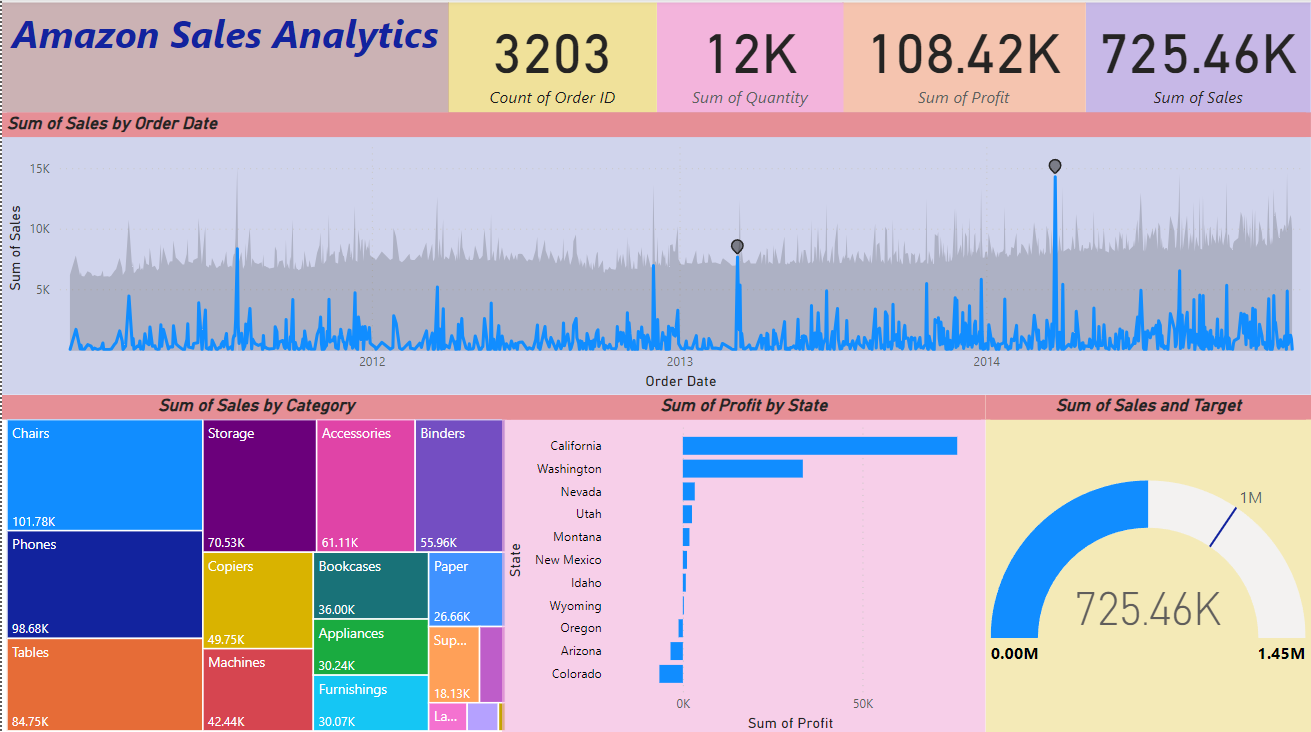

What the dashboard file says about the page in this screenshot:
{"tool":"powerbi","page":{"name":"Page 1","canvas":[1280,720],"ordinal":0},"visuals":[{"type":"card","fields":{"Values":["Sum(Walmart.Sales)"]},"box":[1060,2,220,108],"z":0},{"type":"card","fields":{"Values":["Sum(Walmart.Profit)"]},"box":[822,2,238,108],"z":1},{"type":"card","fields":{"Values":["Sum(Walmart.Quantity)"]},"box":[640,2,182,108],"z":2},{"type":"card","fields":{"Values":["CountNonNull(Walmart.Order ID)"]},"box":[436,2,204,108],"z":3},{"type":"lineChart","fields":{"Category":["Walmart.Order Date"],"Y":["Sum(Walmart.Sales)"]},"box":[0,110,1280,276],"z":4},{"type":"treemap","fields":{"Group":["Walmart.Category"],"Values":["Sum(Walmart.Sales)"]},"box":[0,386,498,334],"z":5},{"type":"barChart","fields":{"Category":["Walmart.State"],"Y":["Sum(Walmart.Profit)"]},"box":[496,386,466,334],"z":6},{"type":"gauge","fields":{"Y":["Sum(Walmart.Sales)"],"TargetValue":["Walmart.Target"]},"box":[962,386,318,334],"z":7},{"type":"textbox","box":[0,2.5,395,105],"z":8}]}

Visuals, with their boxes in screenshot pixels (x1, y1, x2, y2), scaled from the page's 1280x720 canvas onto the 1311x732 screenshot:
card - Sum(Walmart.Sales): 1086, 2, 1310, 112
card - Sum(Walmart.Profit): 842, 2, 1086, 112
card - Sum(Walmart.Quantity): 656, 2, 842, 112
card - CountNonNull(Walmart.Order ID): 447, 2, 656, 112
lineChart - Walmart.Order Date x Sum(Walmart.Sales): 0, 112, 1310, 392
treemap - Walmart.Category x Sum(Walmart.Sales): 0, 392, 510, 731
barChart - Walmart.State x Sum(Walmart.Profit): 508, 392, 985, 731
gauge - Sum(Walmart.Sales) x Walmart.Target: 985, 392, 1310, 731
textbox: 0, 3, 405, 109
